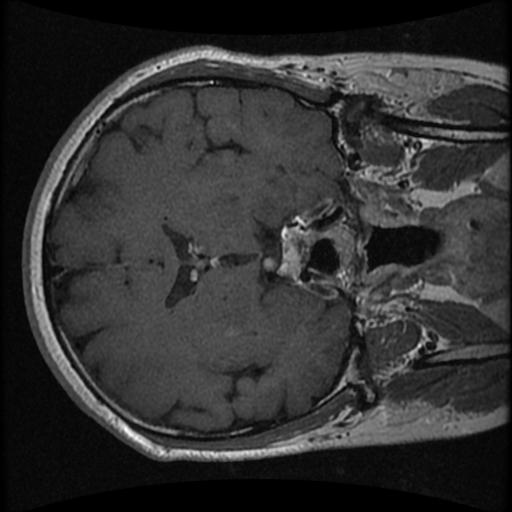pituitary tumour: (278, 226, 310, 279)
